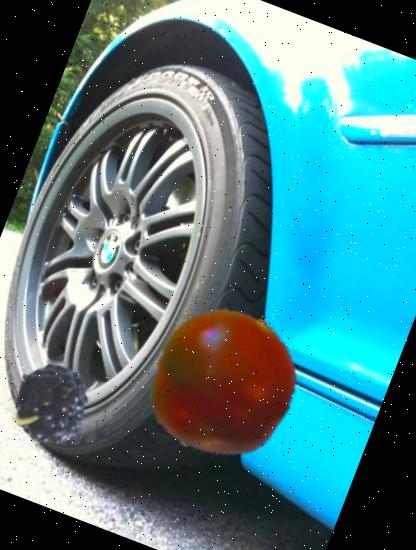Mulberry: (0, 349, 120, 472)
Tomato: (126, 287, 320, 480)
